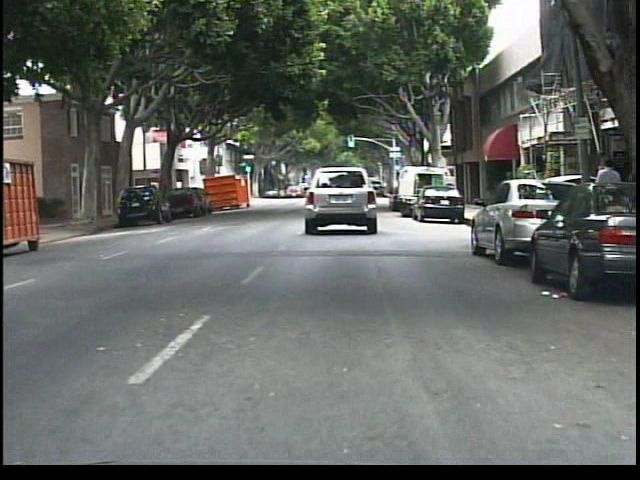person: (589, 151, 626, 247)
